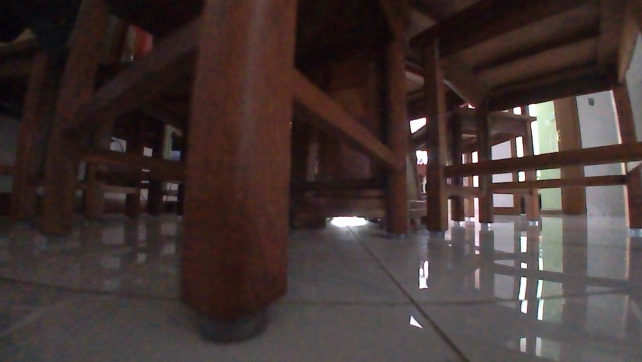dining_table1: (1, 0, 641, 346)
